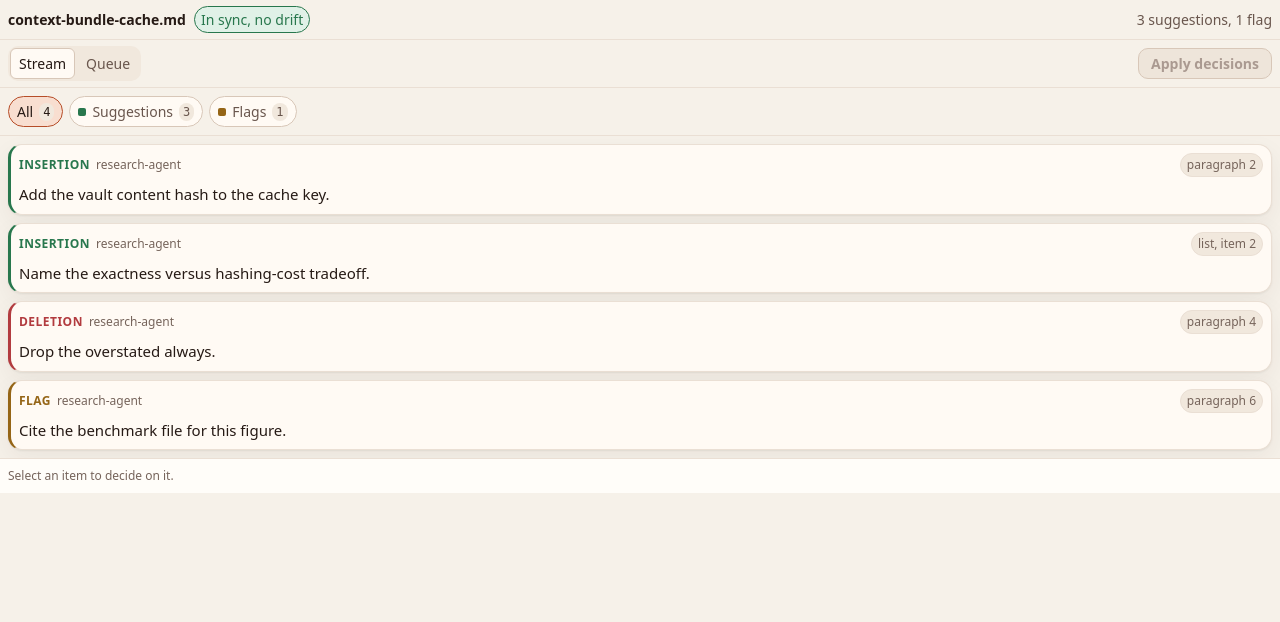
Test: ReviewPanel › walks the queue with the keyboard
The image size is (1280, 622).
Expected: the text "Add the vault content hash to the cache key." is shown, [19,184,330,204]
Click the button "Queue".
click(108, 64)  # box [77,48,139,79]
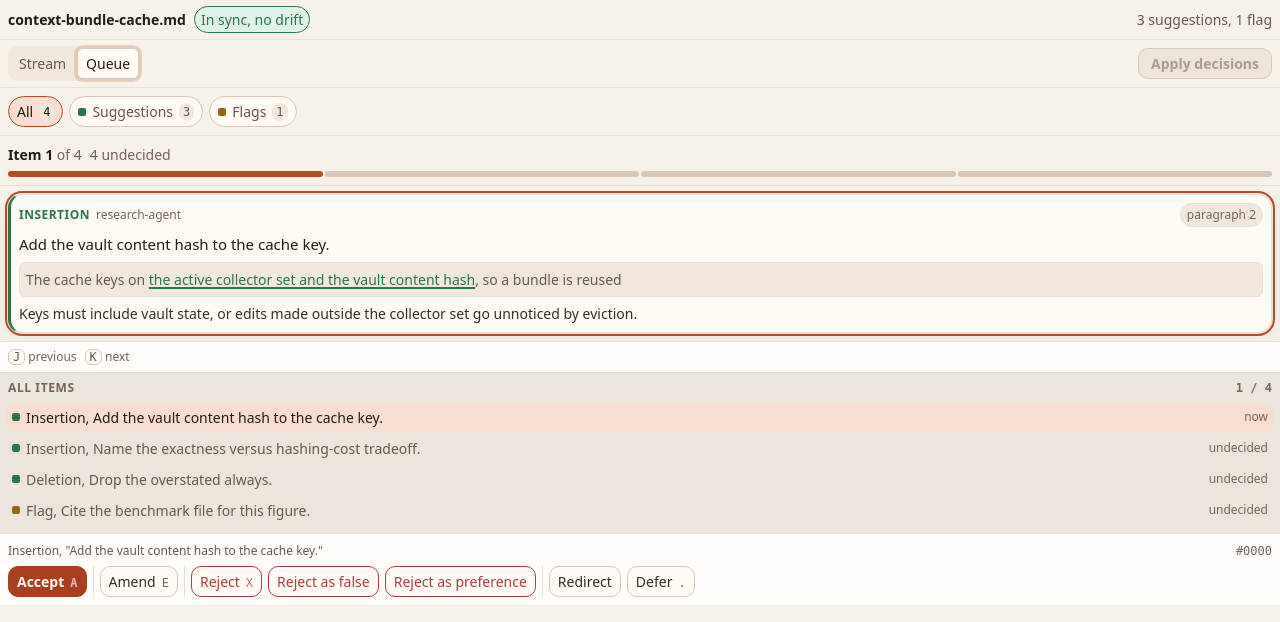
Now the text "Item 1" is shown, box [8,145,53,164]
Type keys "k"
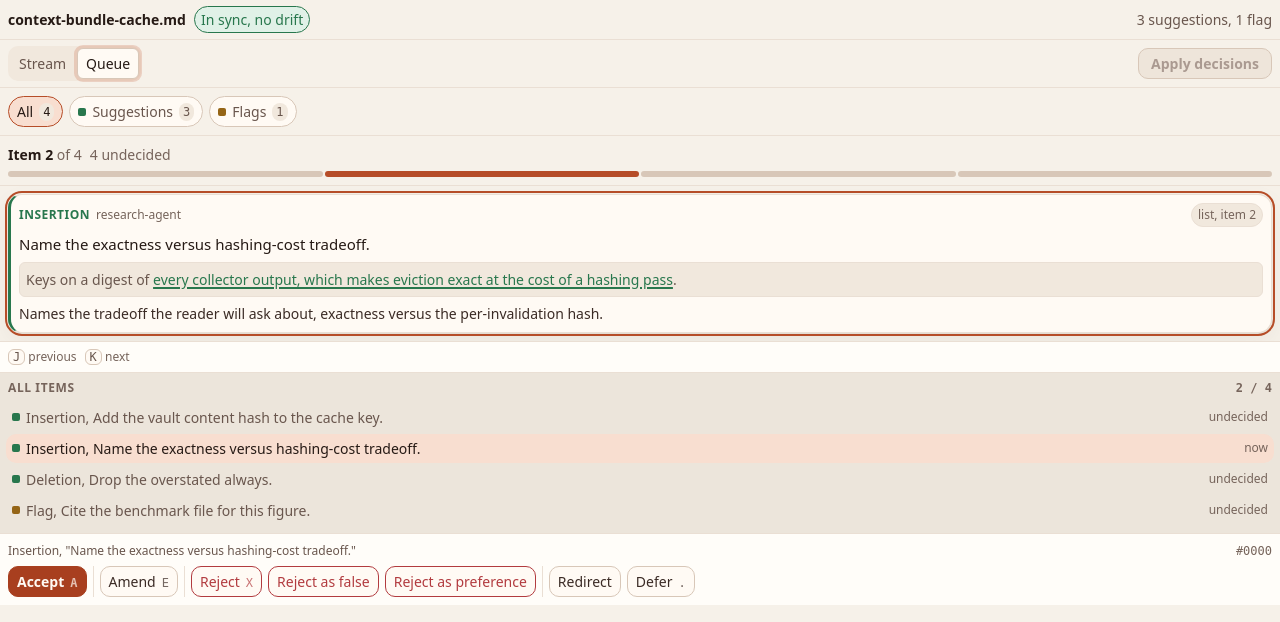
Now the text "Item 2" is shown, box [8,145,53,164]
Type keys "j"
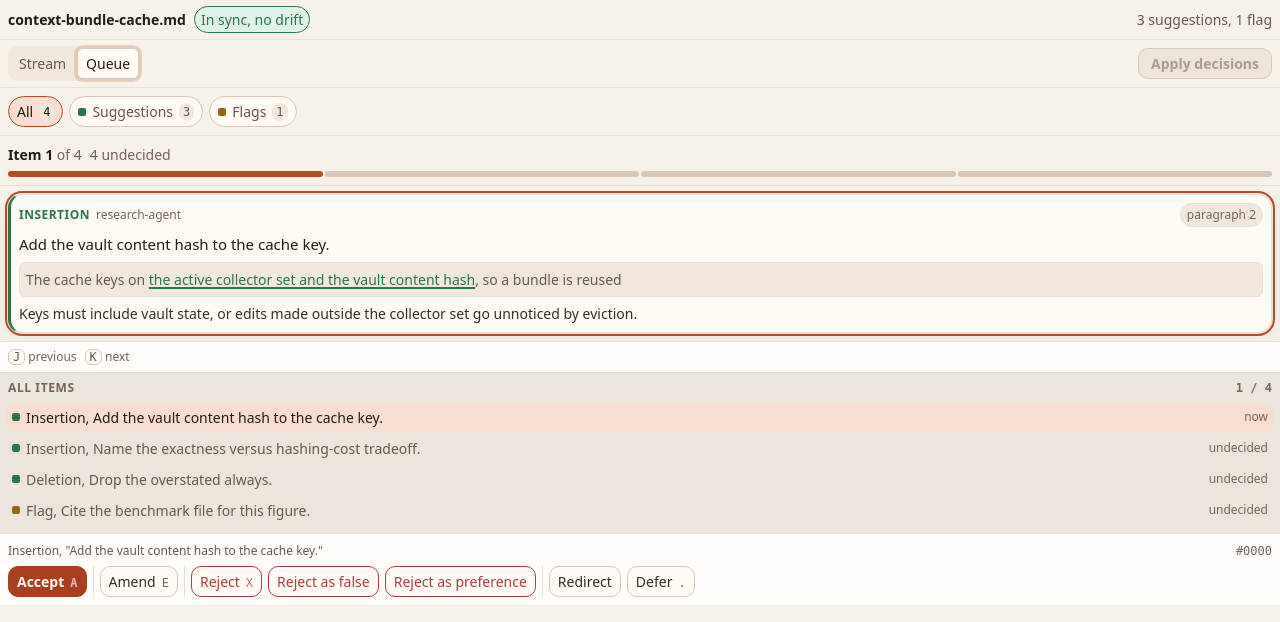
Now the text "Item 1" is shown, box [8,145,53,164]
